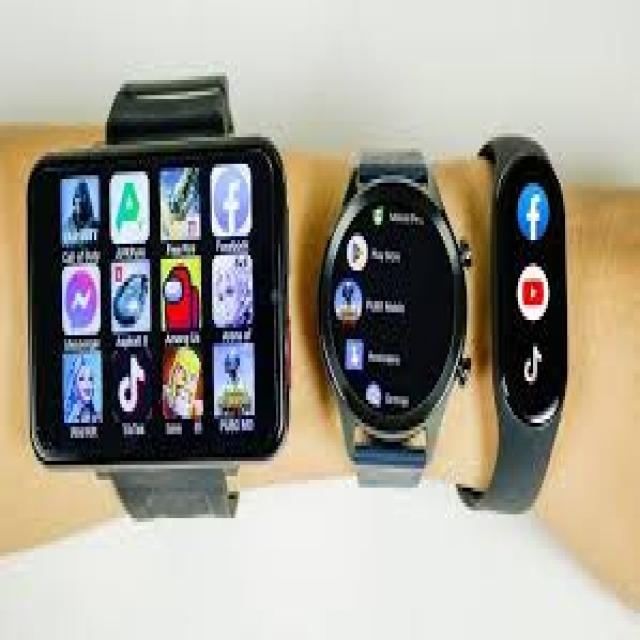objects: (30, 76, 288, 514), (323, 152, 464, 491), (464, 134, 570, 526)
